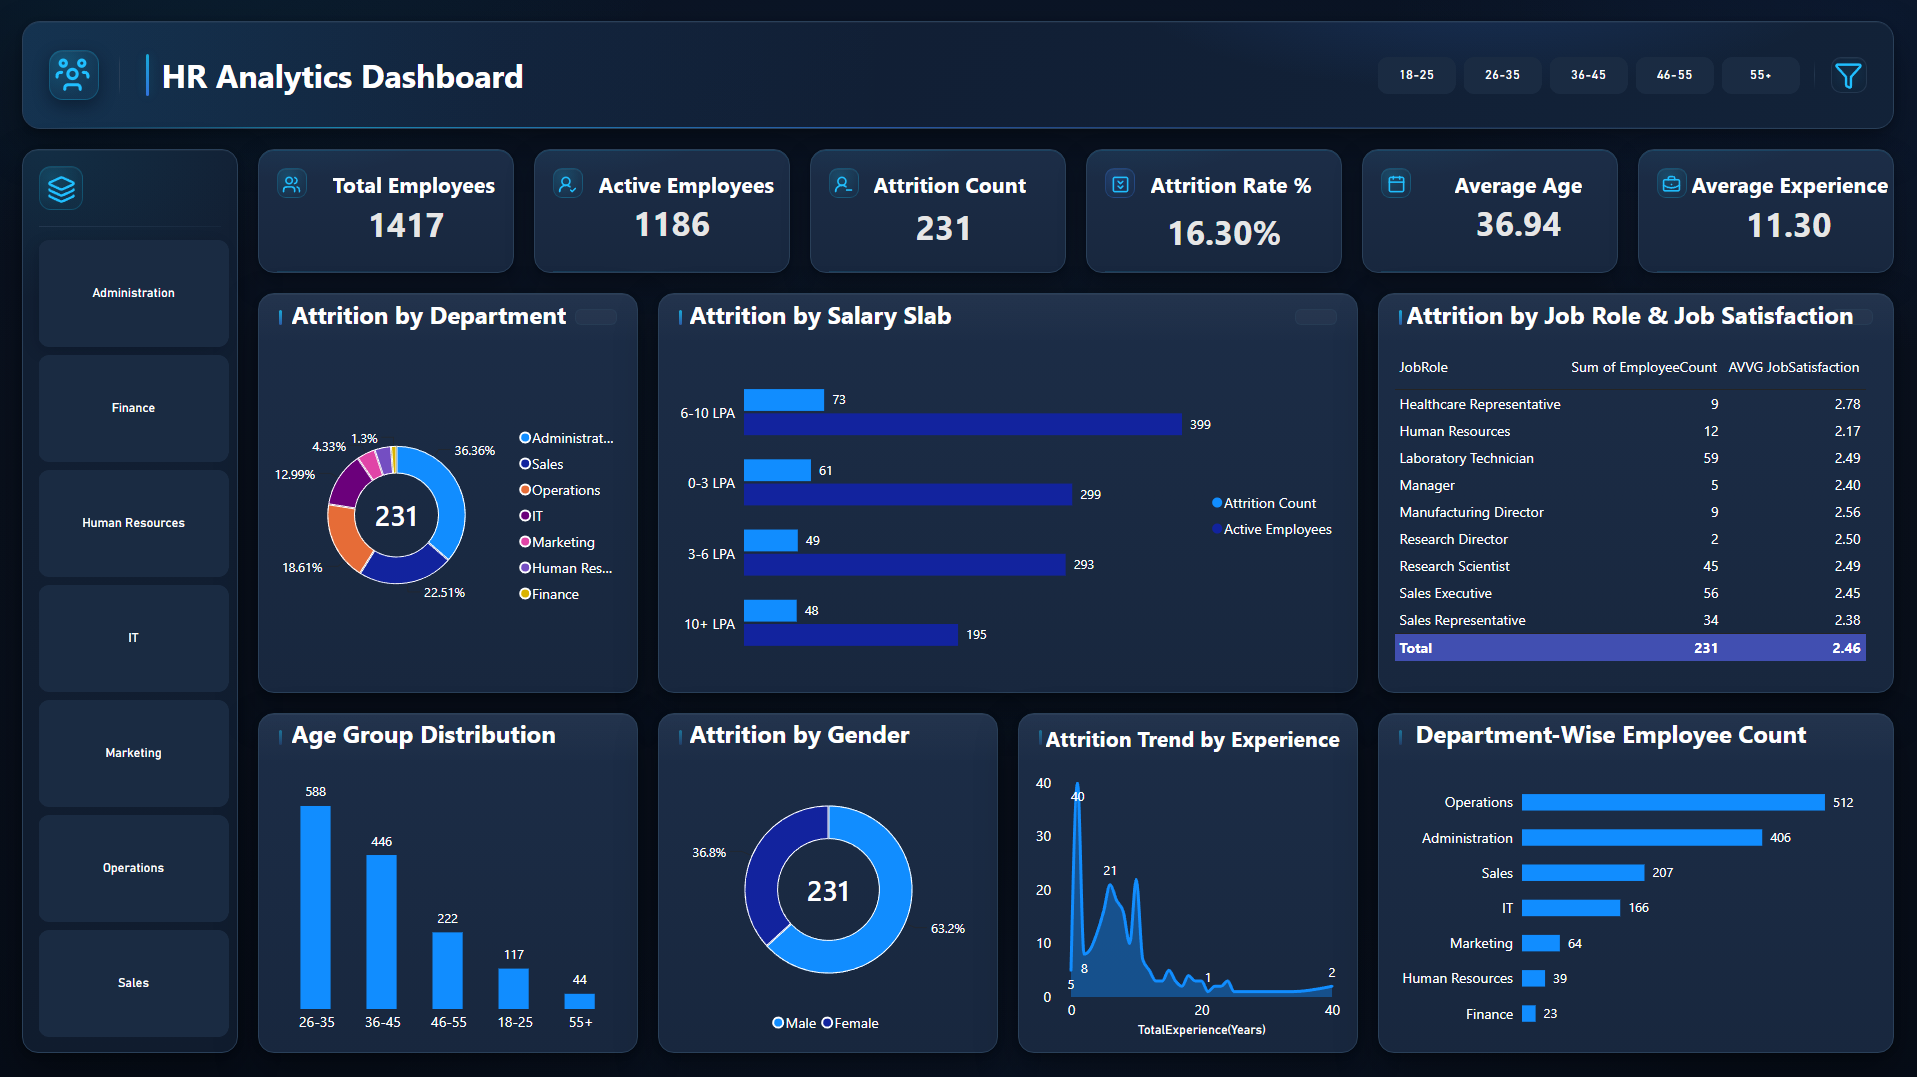

The dashboard page shown, as its layout file describes it:
{"tool":"powerbi","page":{"name":"HR Analytics Overview","canvas":[1920,1080],"ordinal":0},"visuals":[{"type":"cardVisual","fields":{"Data":["Sum(HR_Analytics-4.EmployeeCount)"]},"box":[344.7,191.6,127.7,63.9],"z":0},{"type":"textbox","box":[334.5,171.3,190.6,40.5],"z":1000},{"type":"cardVisual","fields":{"Data":["Sum(HR_Analytics-4.EmployeeCount)"]},"box":[609.8,191.3,127.7,63.9],"z":2000},{"type":"cardVisual","fields":{"Data":["_Measures.Attrition Rate %"]},"box":[1153,196,147,71],"z":4000},{"type":"cardVisual","fields":{"Data":["_Measures.Average Age"]},"box":[1457,191,127.7,63.9],"z":5000},{"type":"cardVisual","fields":{"Data":["Avg(HR_Analytics-4.TotalExperience(Years))"]},"box":[1727.4,191.6,127.7,63.9],"z":6000},{"type":"textbox","box":[601.1,171.3,206.8,40.5],"z":7000},{"type":"textbox","box":[875.9,171.3,190.6,40.5],"z":8000},{"type":"textbox","box":[1152.6,171.3,190.6,40.5],"z":9000},{"type":"textbox","box":[1457,171,190.6,40.5],"z":10000},{"type":"textbox","box":[1694,171,201,41],"z":11000},{"type":"image","box":[283.2,176.4,21.1,18.9],"z":12000},{"type":"image","box":[559.3,176.4,21.1,18.9],"z":13000},{"type":"image","box":[835.4,176.4,21.1,18.9],"z":14000},{"type":"image","box":[1111.8,176.4,21.1,18.9],"z":15000},{"type":"image","box":[1388,176,21,19],"z":16000},{"type":"image","box":[1662.9,176.4,21.1,18.9],"z":17000},{"type":"donutChart","fields":{"Category":["HR_Analytics-4.Department"],"Y":["Sum(HR_Analytics-4.EmployeeCount)"]},"box":[260,340,382,354],"z":18000},{"type":"clusteredBarChart","fields":{"Category":["HR_Analytics-4.SalarySlab"],"Y":["_Measures.Attrition Count","_Measures.Active Employees"]},"box":[661,340,699,354],"z":19000},{"type":"tableEx","fields":{"Values":["HR_Analytics-4.JobRole","Sum(HR_Analytics-4.EmployeeCount)","Avg(HR_Analytics-4.JobSatisfaction)"]},"box":[1380,340,515,354],"z":20000},{"type":"columnChart","fields":{"Category":["HR_Analytics-4.AgeGroup"],"Y":["CountNonNull(HR_Analytics-4.Age)"]},"box":[260,759,382,295],"z":21000},{"type":"donutChart","fields":{"Category":["HR_Analytics-4.Gender"],"Y":["Sum(HR_Analytics-4.EmployeeCount)"]},"box":[661,759,339,295],"z":22000},{"type":"areaChart","fields":{"Category":["HR_Analytics-4.TotalExperience(Years)"],"Y":["Sum(HR_Analytics-4.EmployeeCount)"]},"box":[1021,759,339,295],"z":23000},{"type":"clusteredBarChart","fields":{"Category":["HR_Analytics-4.Department"],"Y":["Sum(HR_Analytics-4.EmployeeCount)"]},"box":[1380,759,515,295],"z":24000},{"type":"textbox","box":[294,299,286,41],"z":25000},{"type":"textbox","box":[692,299,286,41],"z":26000},{"type":"textbox","box":[294,718,286,41],"z":27000},{"type":"textbox","box":[692,718,286,41],"z":28000},{"type":"textbox","box":[1048,725,312,41],"z":29000},{"type":"textbox","box":[1418,718,437,41],"z":30000},{"type":"textbox","box":[1409,299,486,41],"z":31000},{"type":"advancedSlicerVisual","fields":{"Values":["HR_Analytics-4.AgeGroup"]},"box":[1380,58,425,37],"z":32000},{"type":"advancedSlicerVisual","fields":{"Values":["HR_Analytics-4.Department"]},"box":[41,241,190,800],"z":33000},{"type":"image","box":[48,176,31,29],"z":34000},{"type":"image","box":[56,58,38,37],"z":35000},{"type":"image","box":[1836,58,29,37],"z":36000},{"type":"textbox","box":[164,54,385,50],"z":37000},{"type":"cardVisual","fields":{"Data":["Sum(HR_Analytics-4.EmployeeCount)"]},"box":[883,195,127.7,63.9],"z":37001}]}

Visuals, with their boxes in screenshot pixels (x1, y1, x2, y2), scaled from the page's 1920x1080 canvas onto the 1917x1077 screenshot:
cardVisual - Sum(HR_Analytics-4.EmployeeCount): 344:191:472:255
textbox: 334:171:524:211
cardVisual - Sum(HR_Analytics-4.EmployeeCount): 609:191:736:254
cardVisual - _Measures.Attrition Rate %: 1151:195:1298:266
cardVisual - _Measures.Average Age: 1455:190:1582:254
cardVisual - Avg(HR_Analytics-4.TotalExperience(Years)): 1725:191:1852:255
textbox: 600:171:807:211
textbox: 875:171:1065:211
textbox: 1151:171:1341:211
textbox: 1455:171:1645:211
textbox: 1691:171:1892:211
image: 283:176:304:195
image: 558:176:579:195
image: 834:176:855:195
image: 1110:176:1131:195
image: 1386:176:1407:194
image: 1660:176:1681:195
donutChart - HR_Analytics-4.Department x Sum(HR_Analytics-4.EmployeeCount): 260:339:641:692
clusteredBarChart - HR_Analytics-4.SalarySlab x _Measures.Attrition Count: 660:339:1358:692
tableEx - HR_Analytics-4.JobRole x Sum(HR_Analytics-4.EmployeeCount): 1378:339:1892:692
columnChart - HR_Analytics-4.AgeGroup x CountNonNull(HR_Analytics-4.Age): 260:757:641:1051
donutChart - HR_Analytics-4.Gender x Sum(HR_Analytics-4.EmployeeCount): 660:757:998:1051
areaChart - HR_Analytics-4.TotalExperience(Years) x Sum(HR_Analytics-4.EmployeeCount): 1019:757:1358:1051
clusteredBarChart - HR_Analytics-4.Department x Sum(HR_Analytics-4.EmployeeCount): 1378:757:1892:1051
textbox: 294:298:579:339
textbox: 691:298:976:339
textbox: 294:716:579:757
textbox: 691:716:976:757
textbox: 1046:723:1358:764
textbox: 1416:716:1852:757
textbox: 1407:298:1892:339
advancedSlicerVisual - HR_Analytics-4.AgeGroup: 1378:58:1802:95
advancedSlicerVisual - HR_Analytics-4.Department: 41:240:231:1038
image: 48:176:79:204
image: 56:58:94:95
image: 1833:58:1862:95
textbox: 164:54:548:104
cardVisual - Sum(HR_Analytics-4.EmployeeCount): 882:194:1009:258
